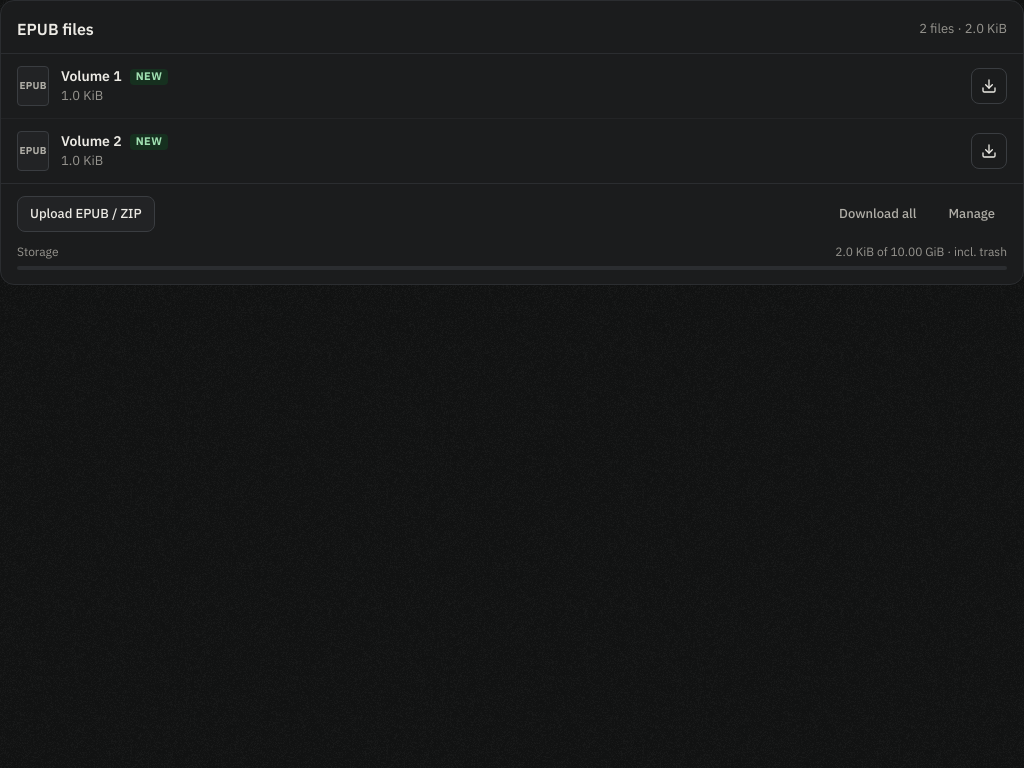
Test case: EPUB file UX › requires confirmation for trash and explains private restoration
Click the button "Manage" at (972, 214), box [936,196,1007,232]
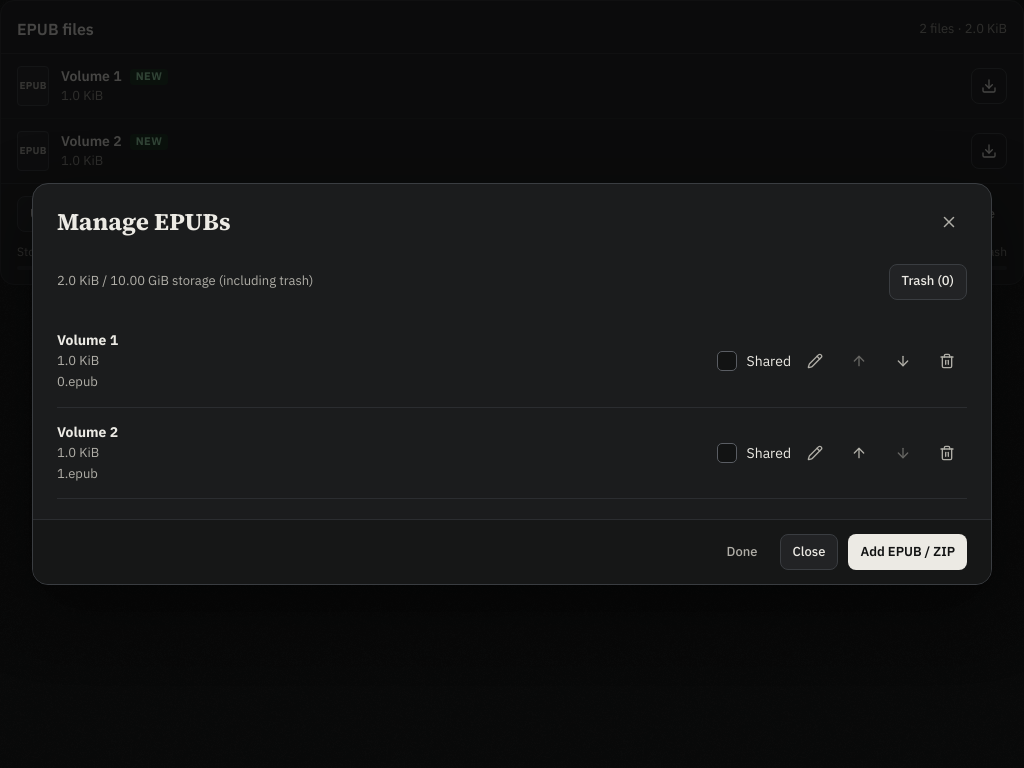
Click the button named "Remove Volume 1" at (947, 361), box [927,343,967,379]
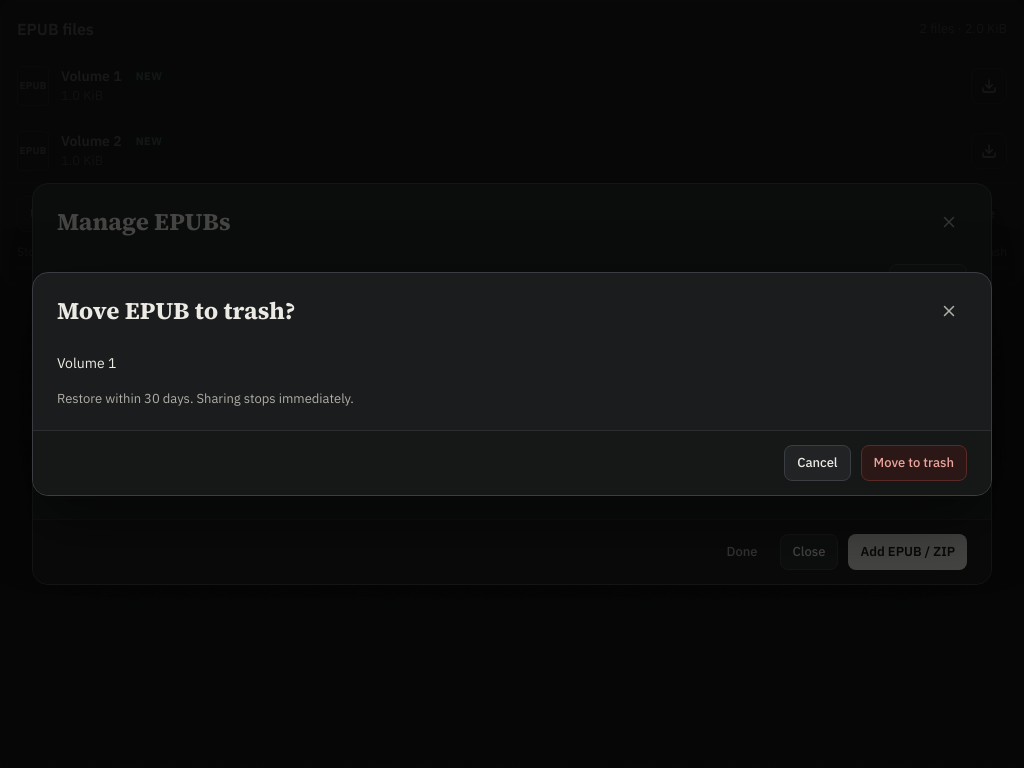
Click the button "Move to trash" at (914, 463), box [861,445,967,481]
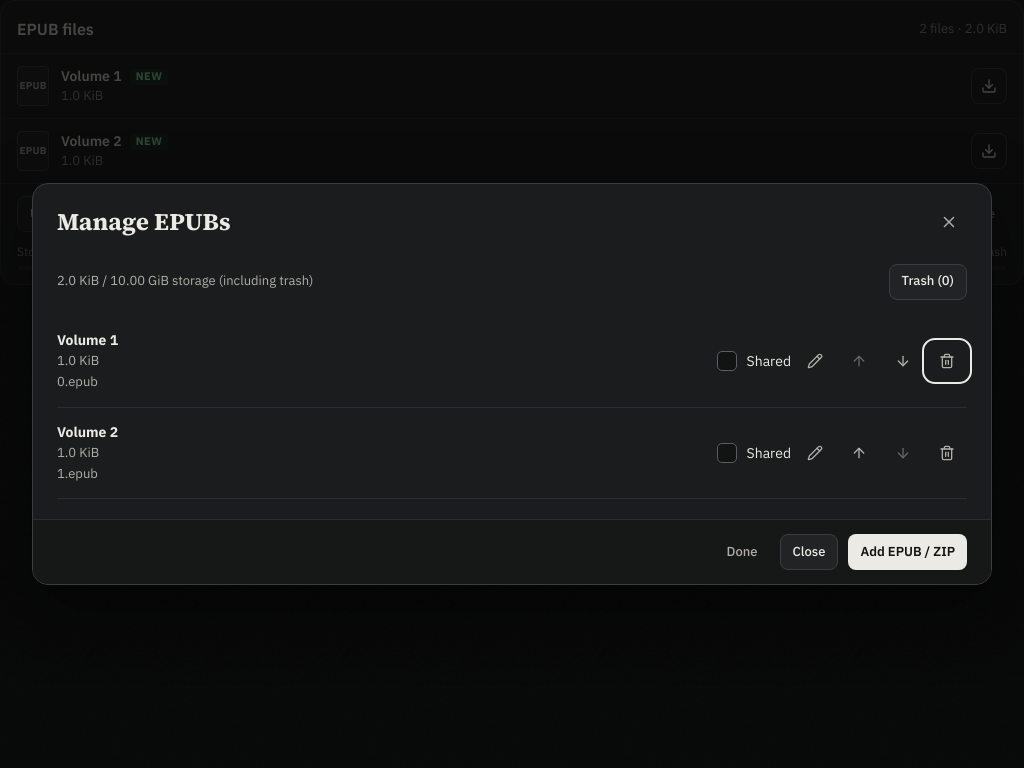
Click the button "Trash (0)" at (928, 282), box [888,264,967,300]
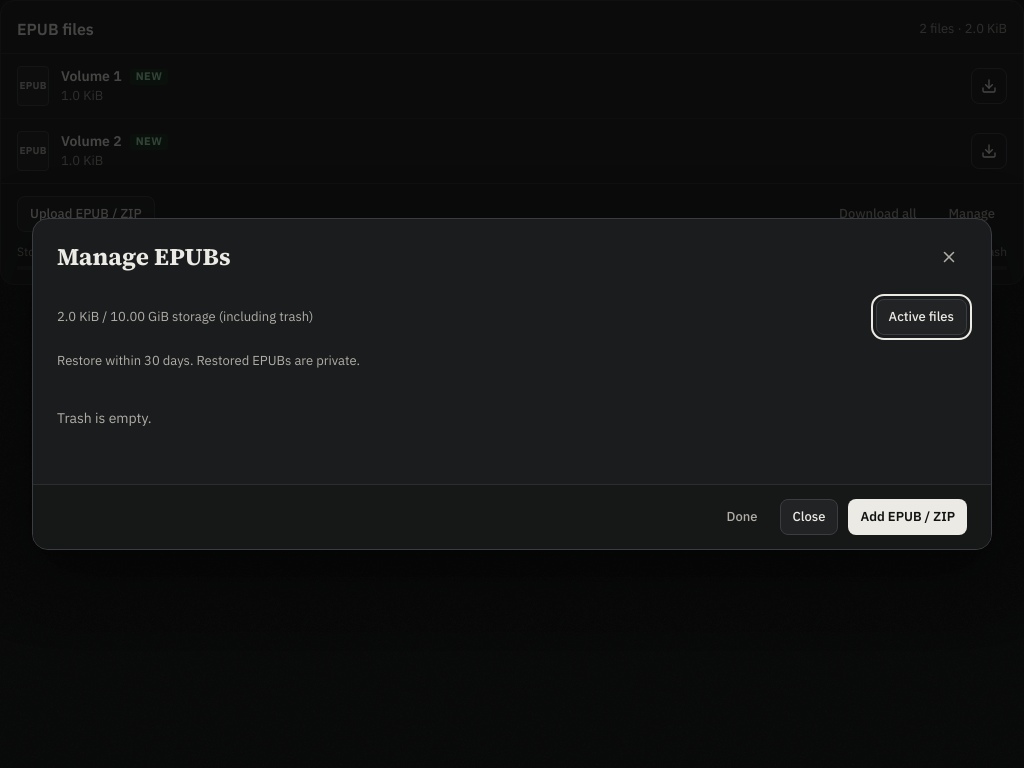
expect the text "Restore within 30 days. Restored EPUBs are private." is shown: met, box [57,352,360,369]
